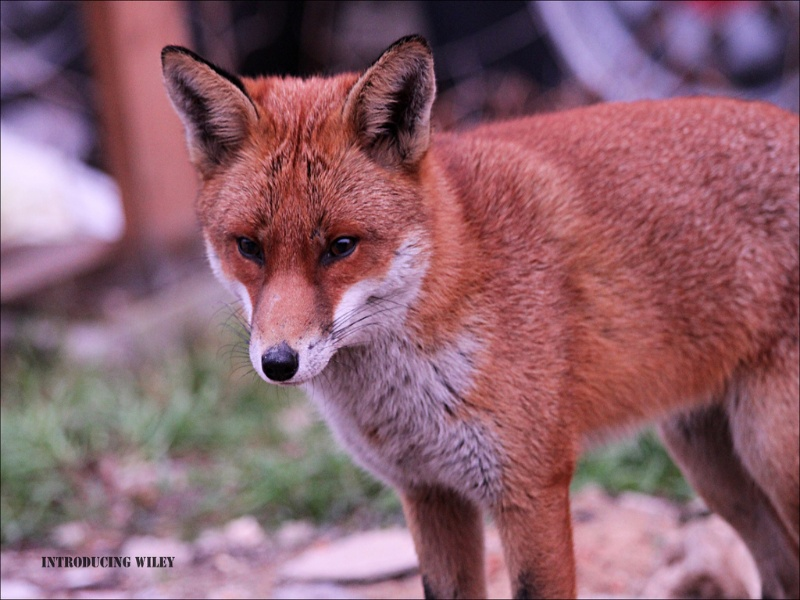fox: (159, 43, 800, 592)
